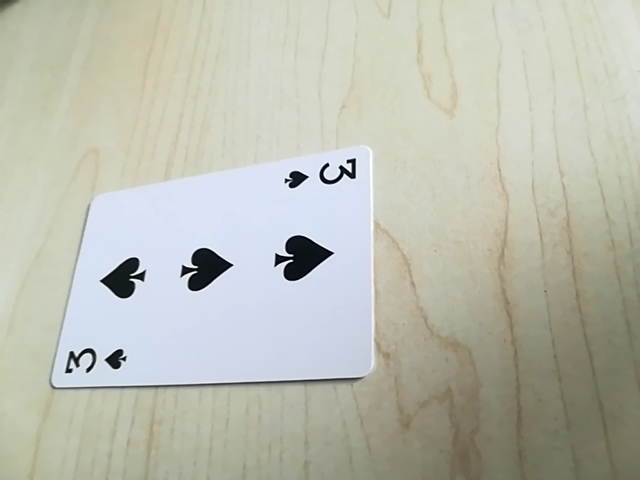ht 3: (279, 154, 364, 193), (59, 339, 132, 383)
